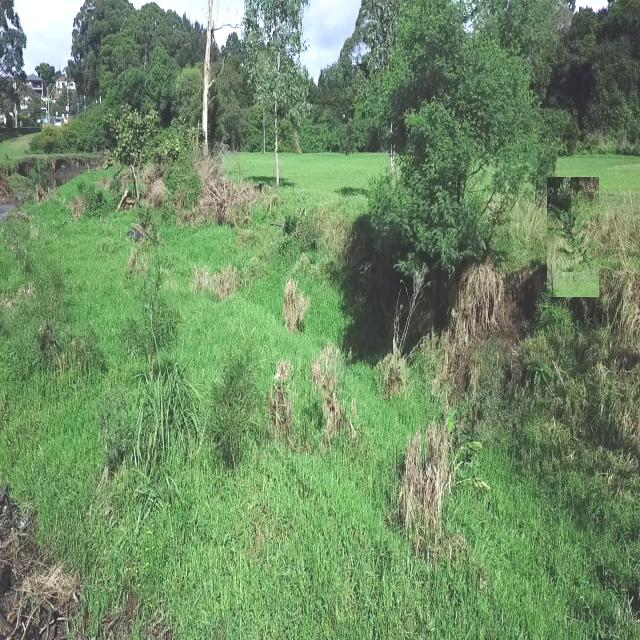Mysore-Thorn-Weed: (547, 177, 599, 297), (525, 350, 553, 390), (536, 290, 560, 324)
